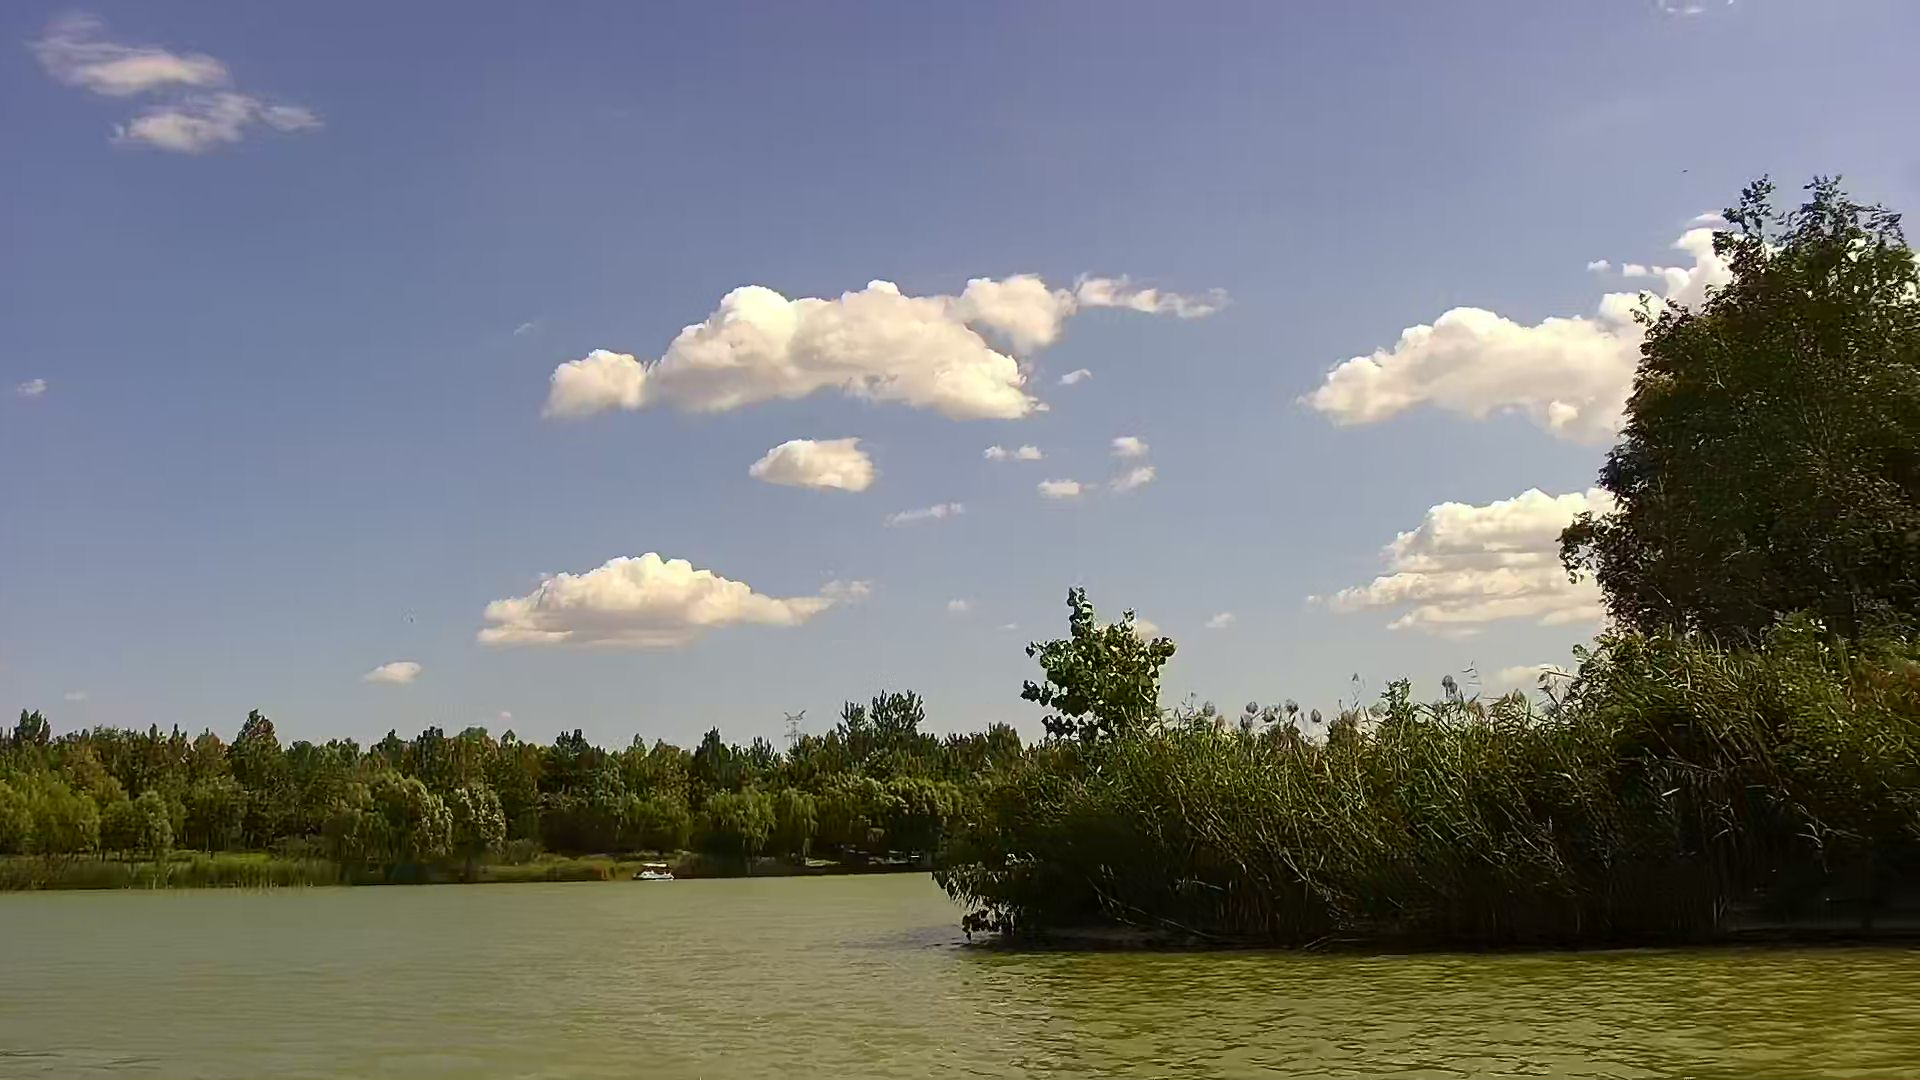boat: (637, 860, 673, 884)
